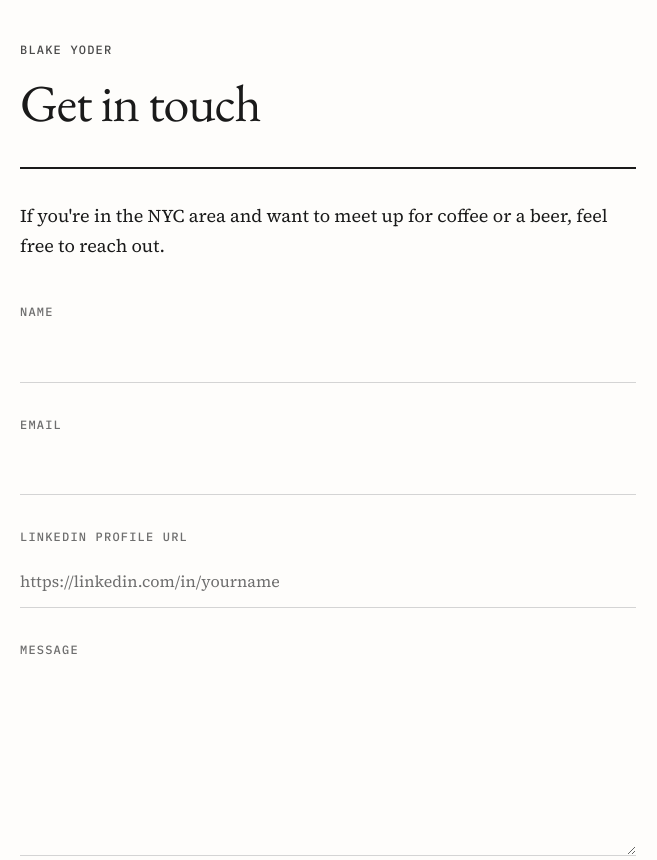
Test: ContactForm › shows server-side field errors and marks the input invalid
Type "Blake" into the field labelled "Name" at (328, 356), box 20,330 -> 636,383
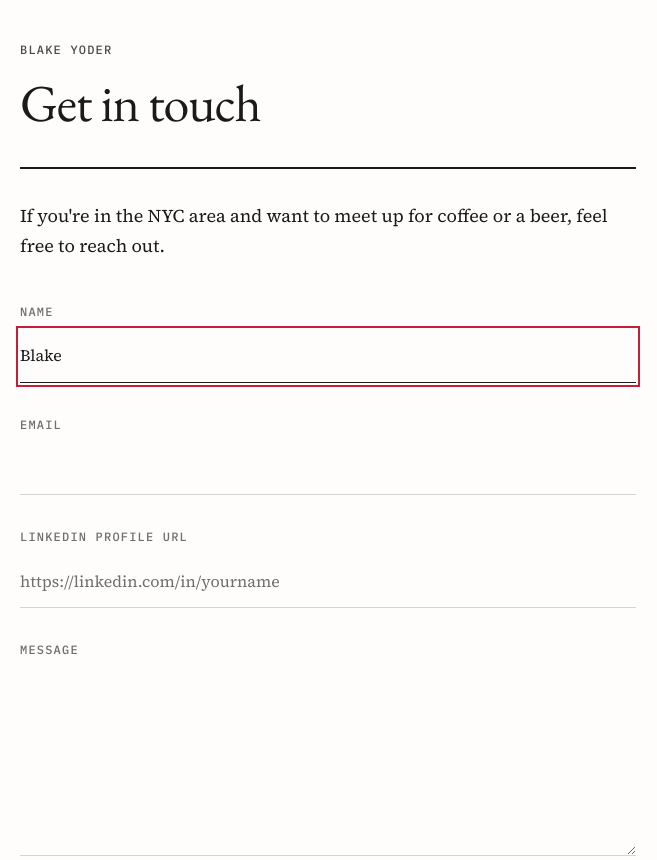
Type "visitor@example.com" into the field labelled "Email" at (328, 469), box 20,443 -> 636,495
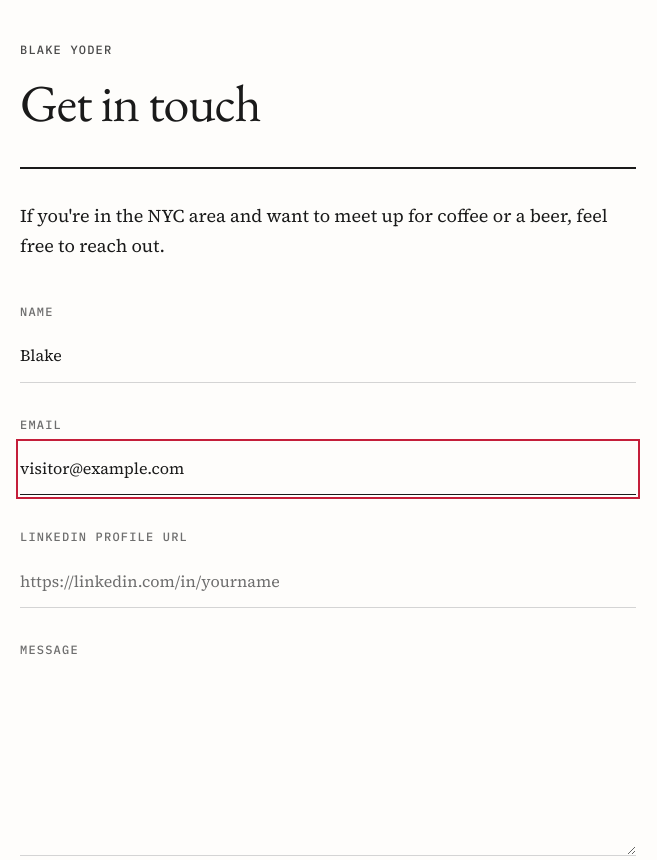
Type "https://linkedin.com/in/someone" into the field labelled "LinkedIn Profile URL" at (328, 582), box 20,556 -> 636,608
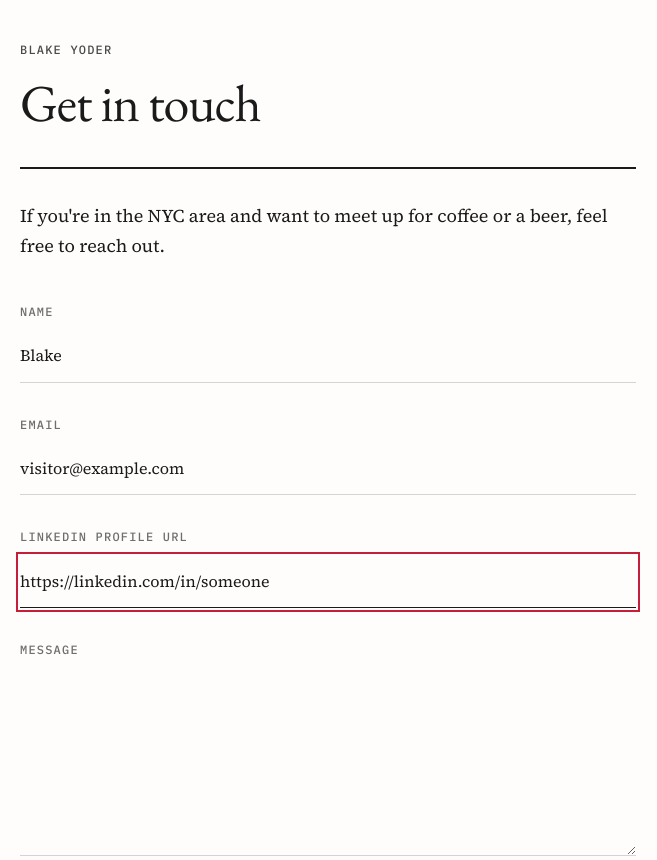
Type "Hello there, this is me." into the text box labelled "Message" at (328, 762), box 20,668 -> 636,856
(page scrolled)
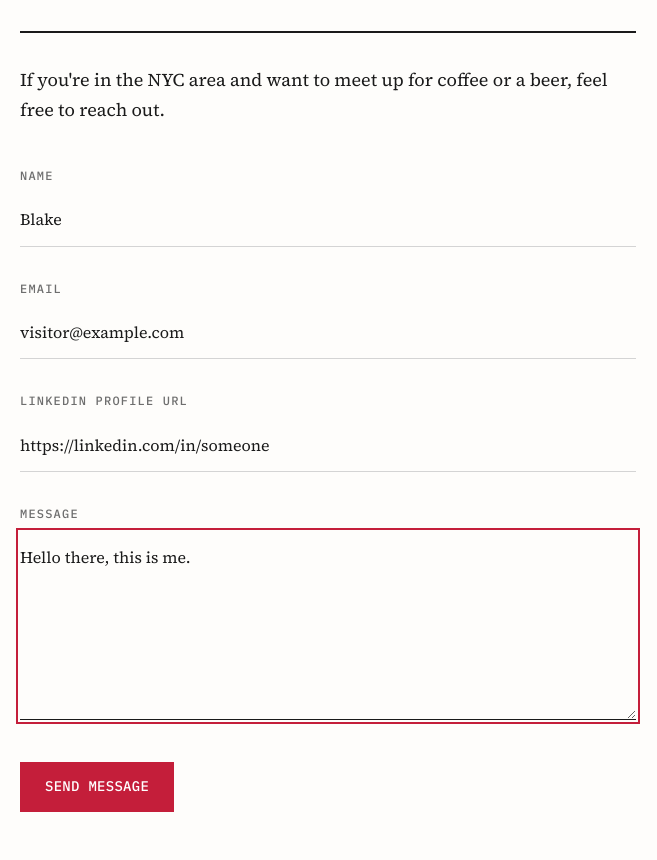
Click the button "Send message" at (97, 787), box 20,762 -> 174,812
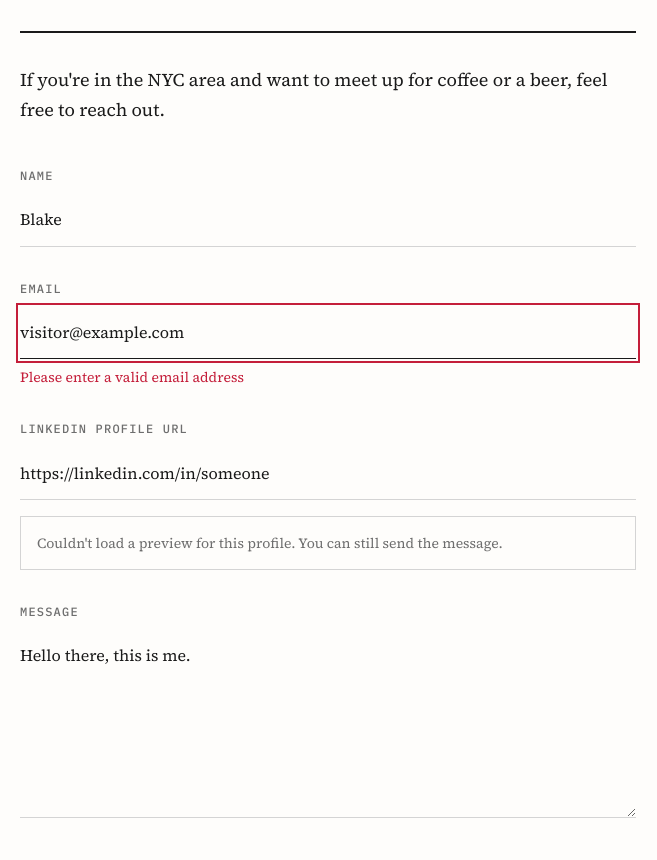
Check: the text "Please enter a valid email address" is shown, box 20,367 -> 244,387
